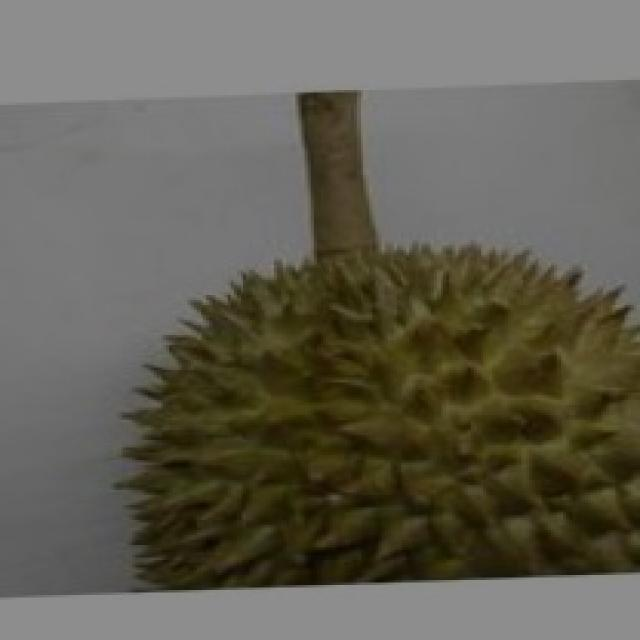fruit: (252, 198, 637, 590), (77, 213, 418, 595)
